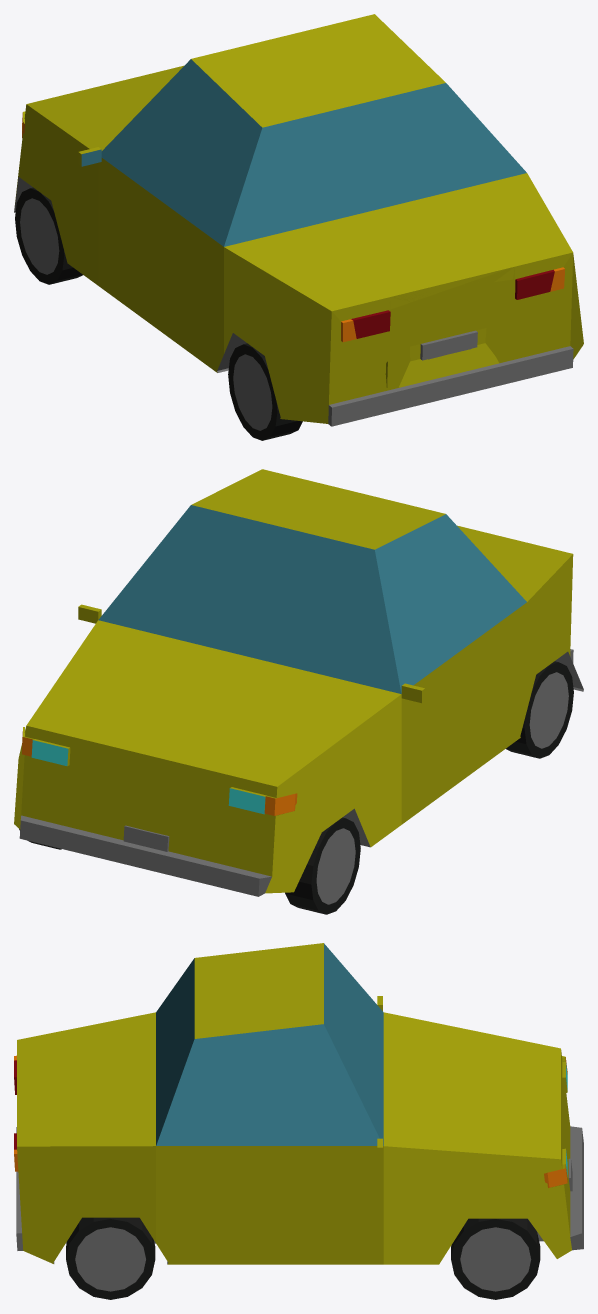
Rendered from car.fbx.
The picture shows the model from 3 angles, top to bottom: view 1: azimuth 30°, elevation 25°; view 2: azimuth 150°, elevation 25°; view 3: azimuth 270°, elevation 25°; orthographic projection. The views are drawn at different scales.
Visible parts, largest first — view 1: Cube, Cylinder.004, Cylinder.001; view 2: Cube, Cylinder.001, Cylinder.004; view 3: Cube, Cylinder.003, Cylinder.002.
Part boxes in pixels (box(x1,y1,x2,y2)): Cube: box(14, 14, 583, 426); Cylinder.004: box(228, 343, 302, 440); Cylinder.001: box(15, 187, 82, 284); Cube: box(14, 469, 583, 896); Cylinder.001: box(285, 817, 360, 914); Cylinder.004: box(506, 661, 573, 758); Cube: box(14, 943, 583, 1264); Cylinder.003: box(66, 1217, 155, 1299); Cylinder.002: box(451, 1218, 540, 1299).
Size of the model in its own units: 165 by 128 by 262.
